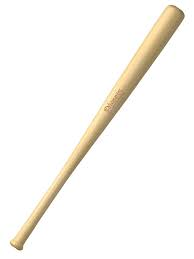baseball bat: (6, 4, 186, 251)
